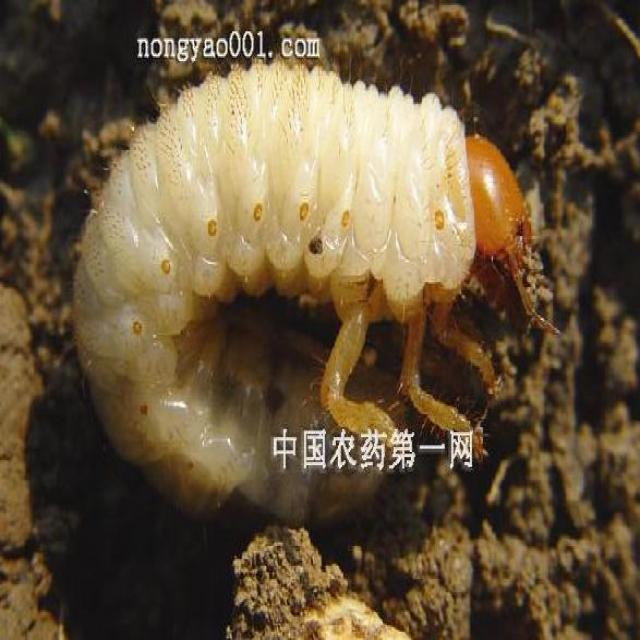Grub-Adult-: (68, 59, 538, 525)
